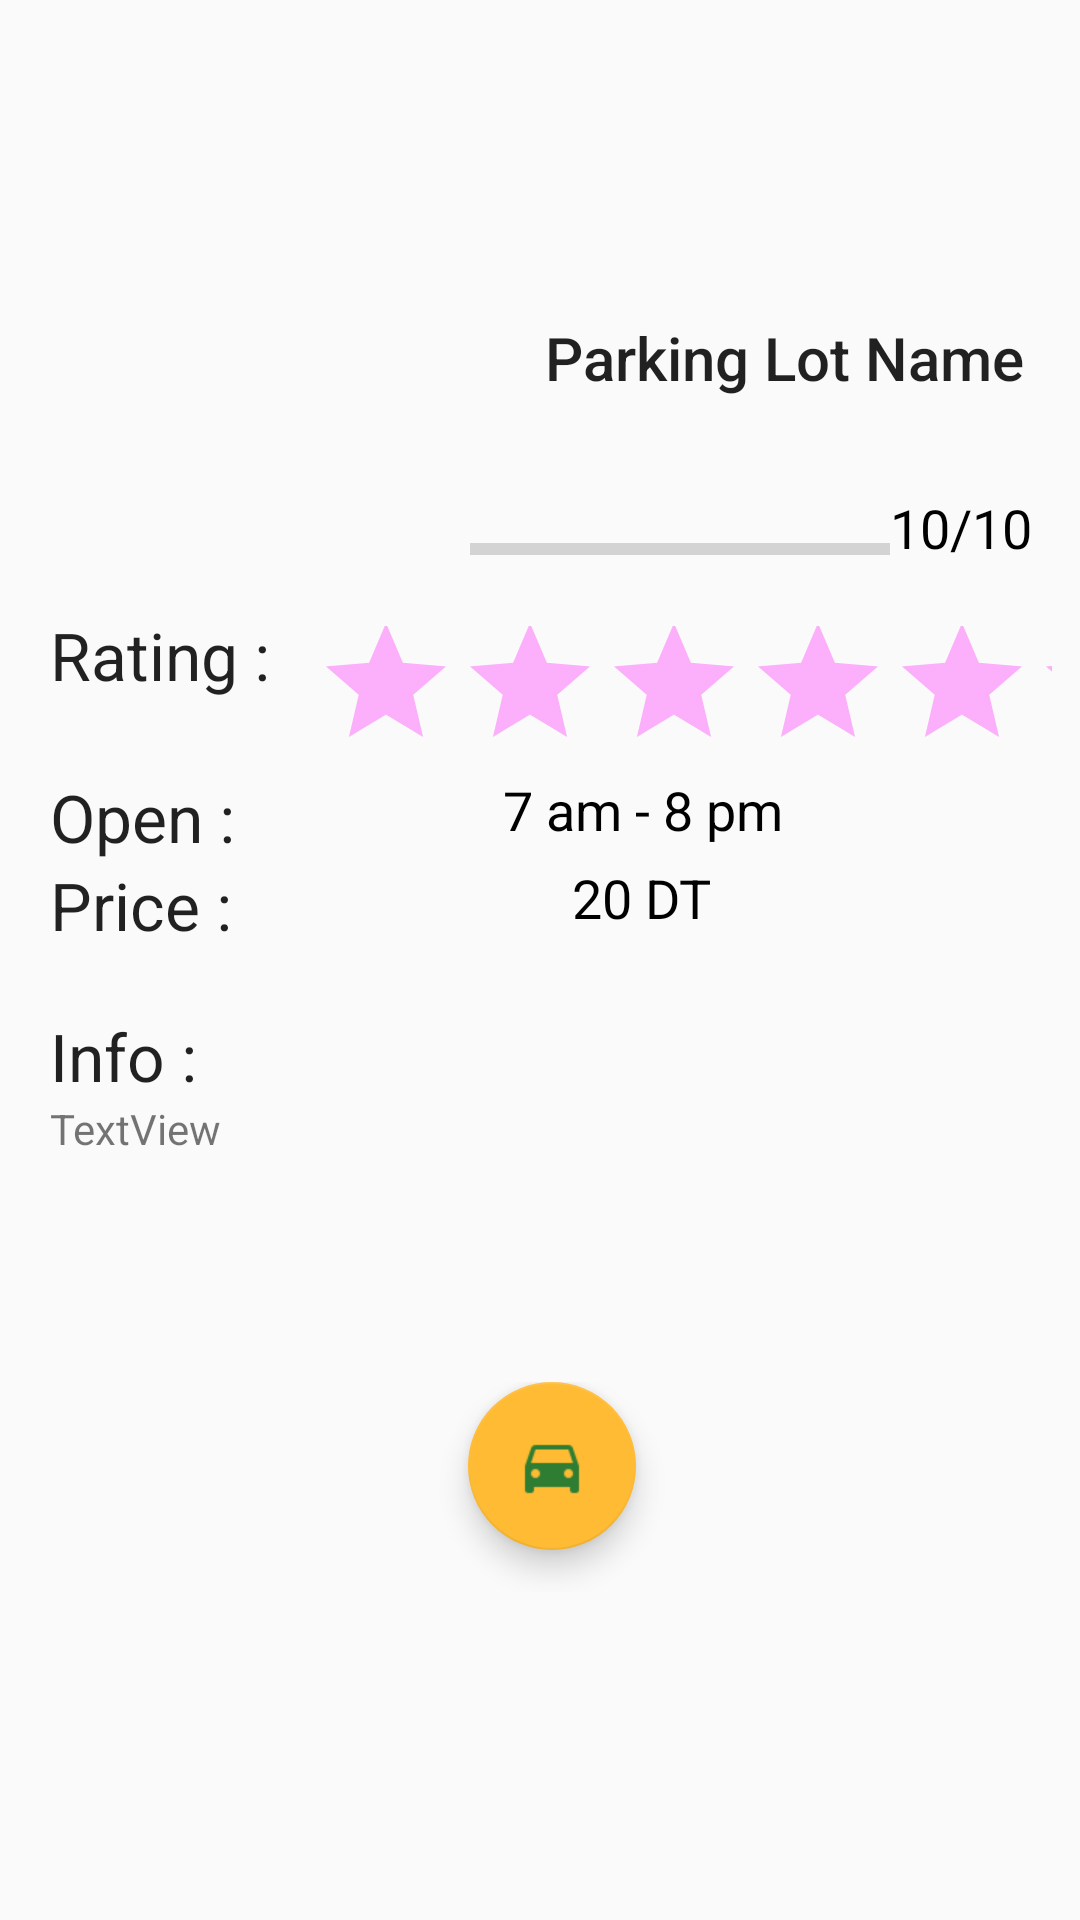

Icon bounding boxes for this 1080w x 1920h phone screenshot, format (x1, y1, x2, y2):
car: (468, 1382, 636, 1550)
